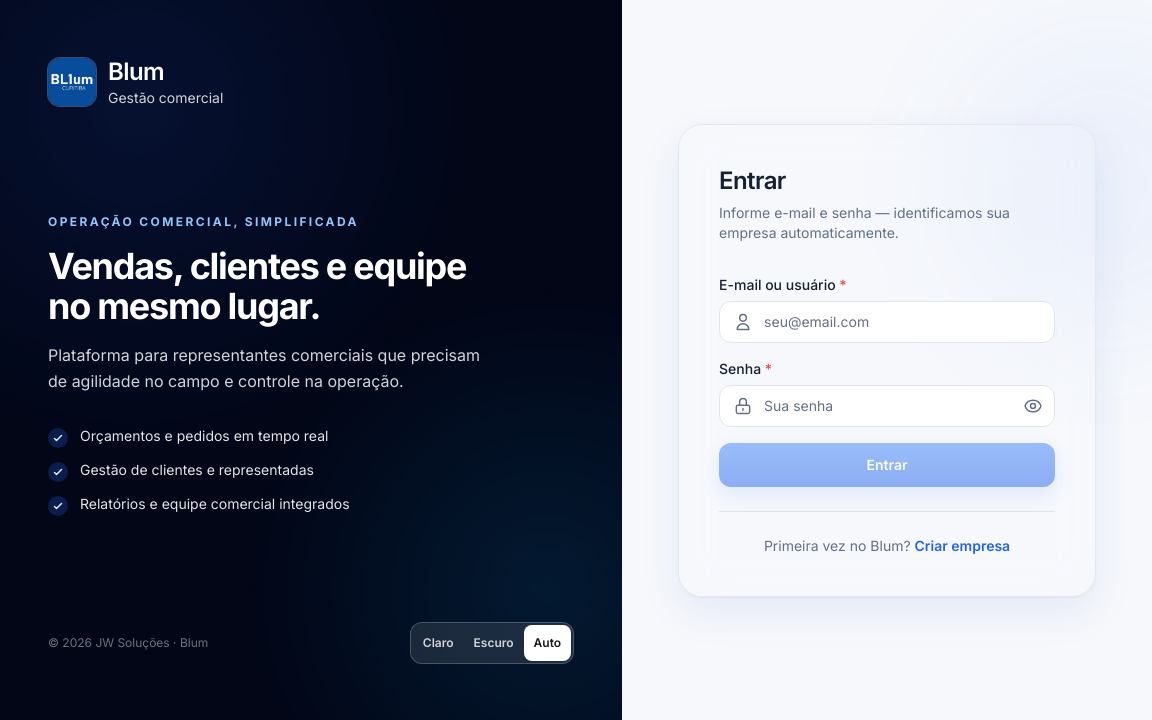
Test: Login › exibe erro quando login falha
In the field labelled "E-mail ou usuário *": (887, 322) [719,300,1055,342], type "bad@test.com"
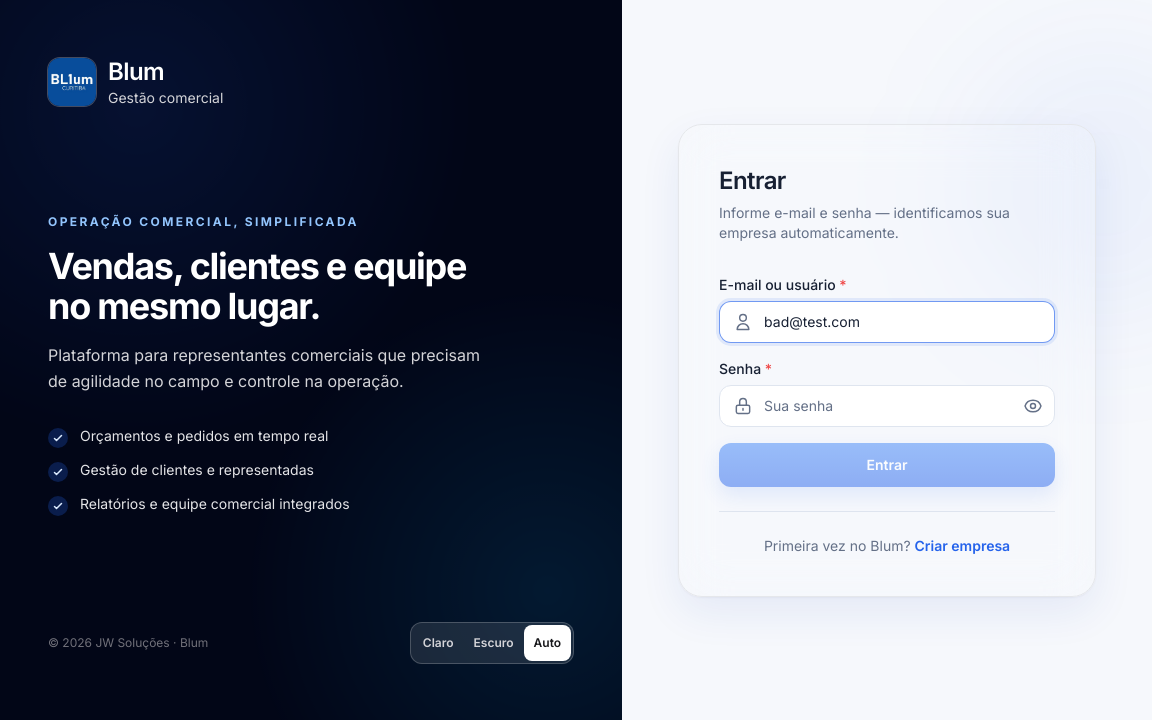
In the password field labelled "Senha *": (887, 406) [719,384,1055,426], type "wrong"
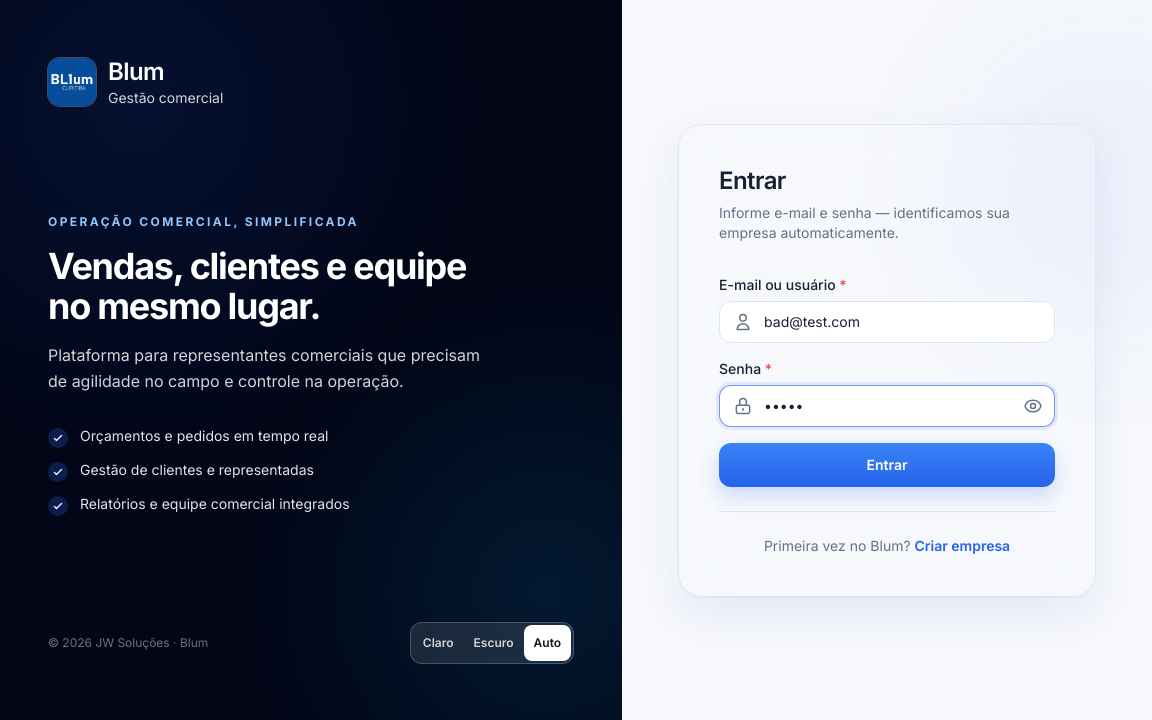
Click the button "Entrar": (887, 464) [719,442,1055,486]
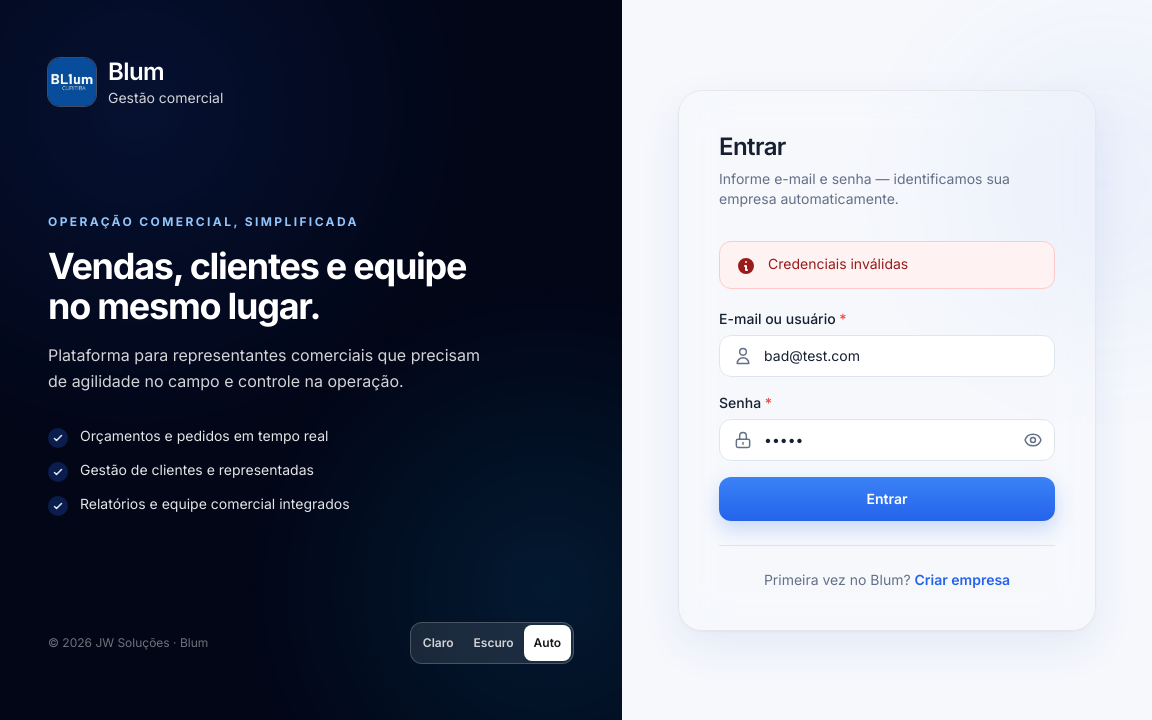
Expected: the text "Credenciais inválidas" is shown, [768,254,908,276]
